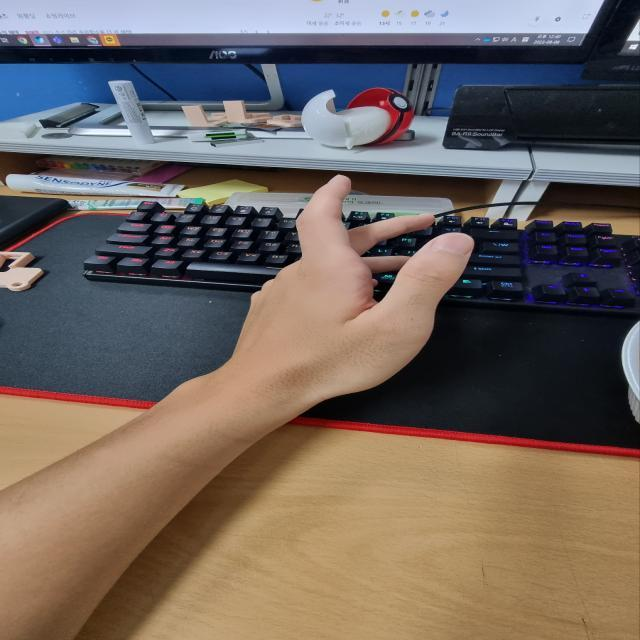keyboard-with-hands: (70, 198, 640, 317)
